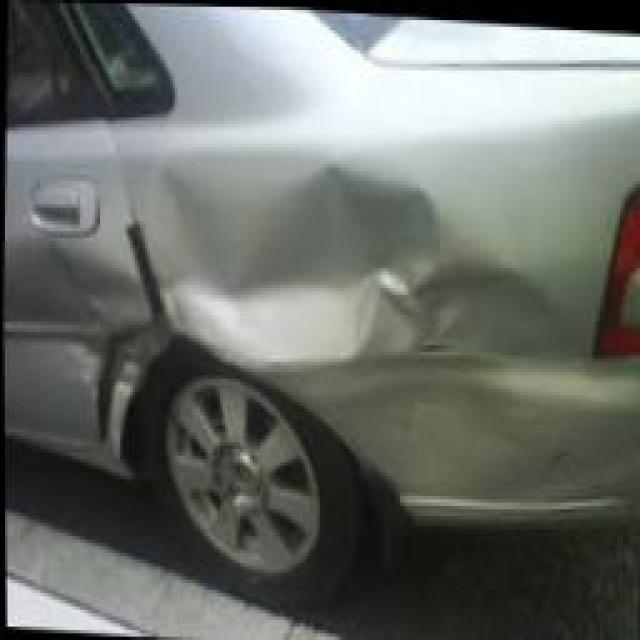Door: (42, 221, 157, 438)
Fender: (198, 127, 585, 378)
